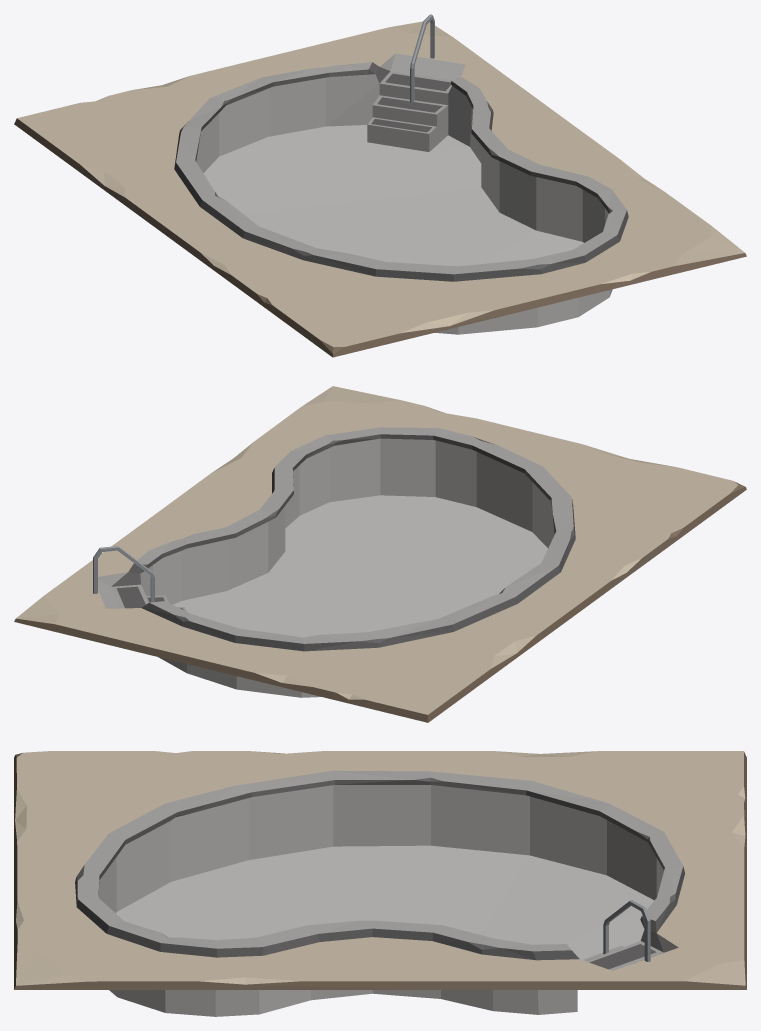
File: PoolBasin.obj
3 views of the same model, one above another, from view 1: azimuth 30°, elevation 25°; view 2: azimuth 150°, elevation 25°; view 3: azimuth 270°, elevation 25° (orthographic). The views are drawn at different scales.
Parts seen in each view (by area): view 1: PoolBasin; view 2: PoolBasin; view 3: PoolBasin.
Boxes of the visible parts, x1,y1,x2,y2 form: PoolBasin: (14, 14, 746, 357); PoolBasin: (14, 386, 746, 722); PoolBasin: (14, 751, 746, 1016).
Size of the model in its own units: 6 by 1.43 by 8.
1 material, 1 textured.
